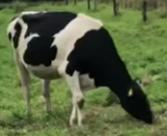cow: (7, 11, 154, 126)
